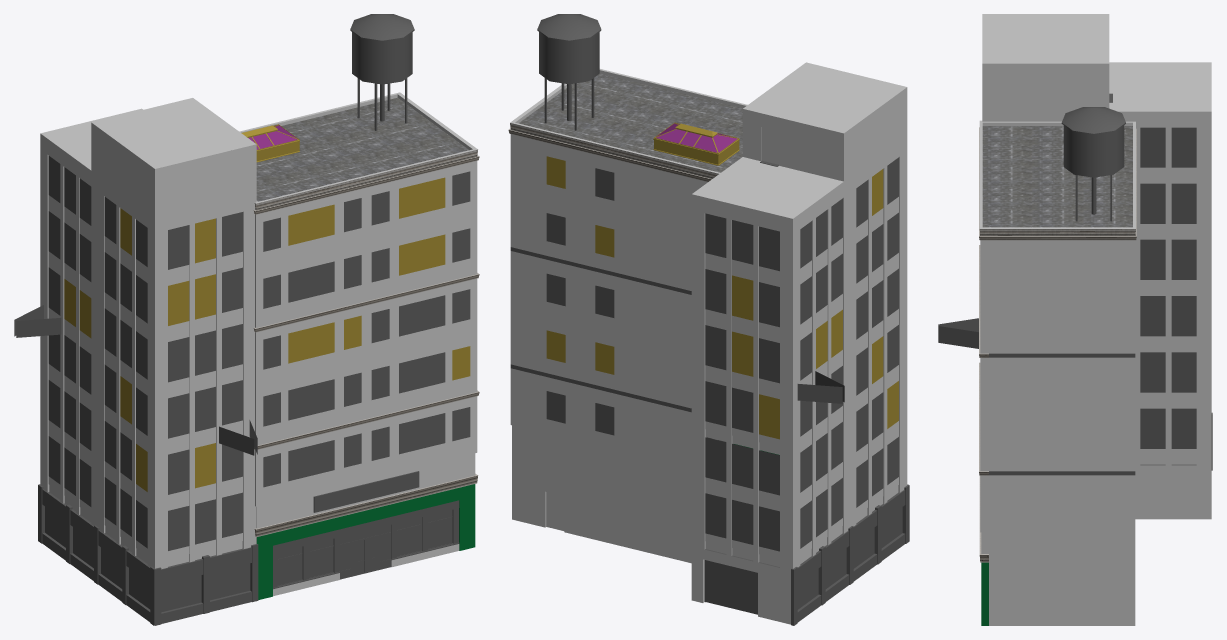
File: mcp_building_17_LOD_1.FBX
3 renders of one model, left to right at view 1: azimuth 30°, elevation 25°; view 2: azimuth 150°, elevation 25°; view 3: azimuth 270°, elevation 25°, orthographic.
Parts seen in each view (by area): view 1: mcp_building_17, mcp_building_17_walls_01, mcp_building_17_walls_03, mcp_building_17_rooftop, mcp_building_17_walls_02, mcp_building_17_glass, mcp_building_16_props_03, mcp_building_17_props_01; view 2: mcp_building_17_walls_02, mcp_building_17_walls_01, mcp_building_17, mcp_building_17_rooftop, mcp_building_16_props_03, mcp_building_17_walls_03, mcp_building_17_props_01, mcp_building_17_doors; view 3: mcp_building_17_walls_02, mcp_building_17_walls_01, mcp_building_17_rooftop, mcp_building_17, mcp_building_17_walls_03, mcp_building_16_props_03.
Boxes of the visible parts, x1=… form: mcp_building_17: x1=14, y1=156, x2=475, y2=625; mcp_building_17_walls_01: x1=40, y1=122, x2=256, y2=569; mcp_building_17_walls_03: x1=239, y1=92, x2=479, y2=537; mcp_building_17_rooftop: x1=40, y1=97, x2=469, y2=201; mcp_building_17_walls_02: x1=263, y1=201, x2=470, y2=596; mcp_building_17_glass: x1=277, y1=510, x2=452, y2=585; mcp_building_16_props_03: x1=350, y1=14, x2=414, y2=130; mcp_building_17_props_01: x1=241, y1=124, x2=299, y2=162; mcp_building_17_walls_02: x1=510, y1=134, x2=707, y2=563; mcp_building_17_walls_01: x1=691, y1=87, x2=907, y2=624; mcp_building_17: x1=510, y1=156, x2=909, y2=625; mcp_building_17_rooftop: x1=518, y1=62, x2=906, y2=218; mcp_building_16_props_03: x1=537, y1=14, x2=601, y2=130; mcp_building_17_walls_03: x1=508, y1=69, x2=747, y2=181; mcp_building_17_props_01: x1=653, y1=122, x2=739, y2=165; mcp_building_17_doors: x1=546, y1=127, x2=778, y2=530; mcp_building_17_walls_02: x1=989, y1=240, x2=1135, y2=625; mcp_building_17_walls_01: x1=982, y1=63, x2=1211, y2=519; mcp_building_17_rooftop: x1=982, y1=14, x2=1211, y2=227; mcp_building_17: x1=938, y1=93, x2=1212, y2=625; mcp_building_17_walls_03: x1=979, y1=120, x2=1136, y2=562; mcp_building_16_props_03: x1=1061, y1=107, x2=1125, y2=221.
Size of the model in its own units: 3100 by 4106 by 2042.
